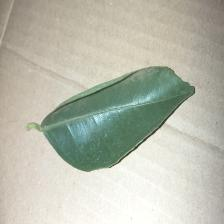healthy: (35, 77, 184, 162)
